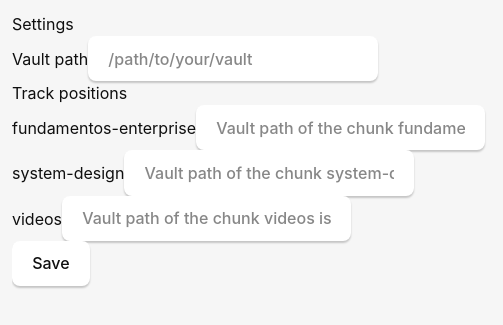
Settings screen › surfaces save failures in the status line
What coordinates should you click on to do the following:
click the button "Save"
I would click on:
 (51, 263)
Its box is x1=12 y1=241 x2=90 y2=286.
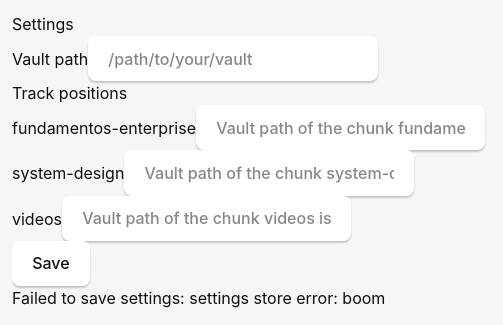
Expected: the message reads "Failed to save settings: settings store error: boom", x1=12 y1=288 x2=385 y2=308
